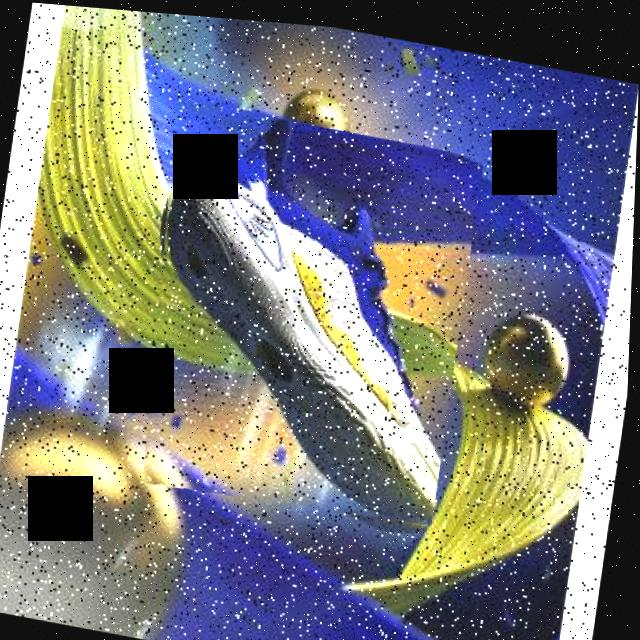shoe: (125, 94, 486, 530)
